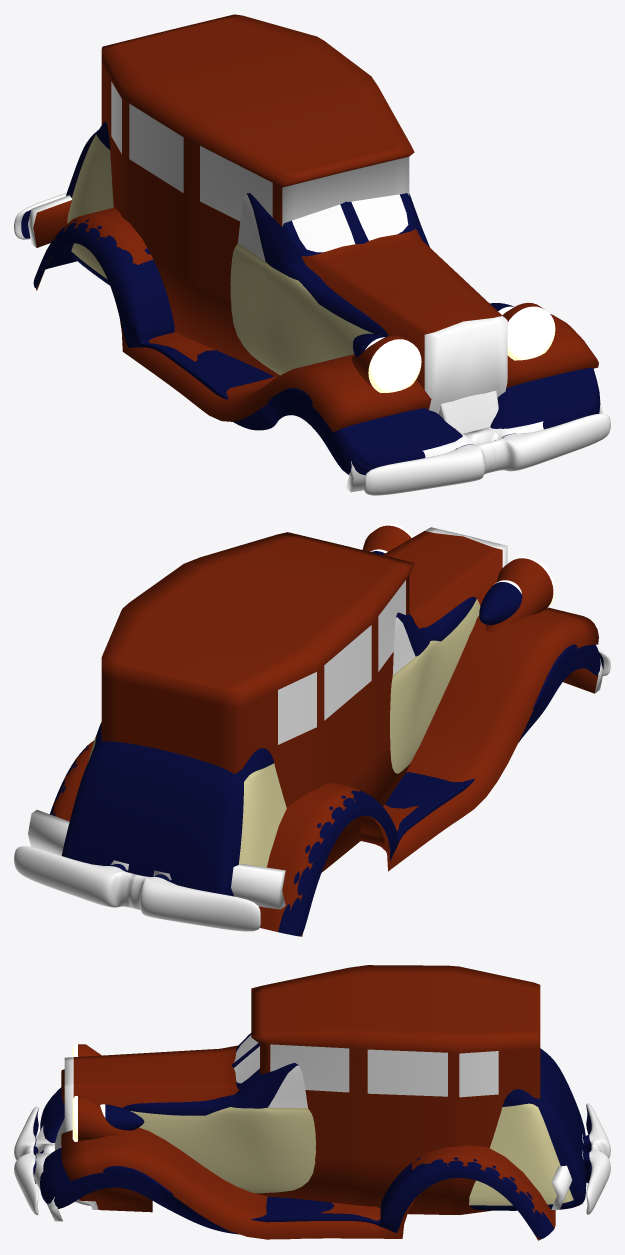
File: Cars v2.glb
The picture shows the model from 3 angles, top to bottom: view 1: azimuth 30°, elevation 25°; view 2: azimuth 150°, elevation 25°; view 3: azimuth 270°, elevation 25°; orthographic projection. The views are drawn at different scales.
Parts seen in each view (by area): view 1: Car_Robber -vehicle, Car_Cop -vehicle; view 2: Car_Robber -vehicle, Car_Cop -vehicle; view 3: Car_Robber -vehicle, Car_Cop -vehicle.
Part boxes in pixels (x1,y1,x2,y2): Car_Robber -vehicle: [28, 14, 602, 492]; Car_Cop -vehicle: [14, 121, 610, 495]; Car_Robber -vehicle: [28, 524, 603, 936]; Car_Cop -vehicle: [14, 549, 610, 936]; Car_Robber -vehicle: [34, 965, 583, 1240]; Car_Cop -vehicle: [14, 1033, 610, 1239].
Size of the model in its own units: 1.93 by 1.93 by 4.7.
